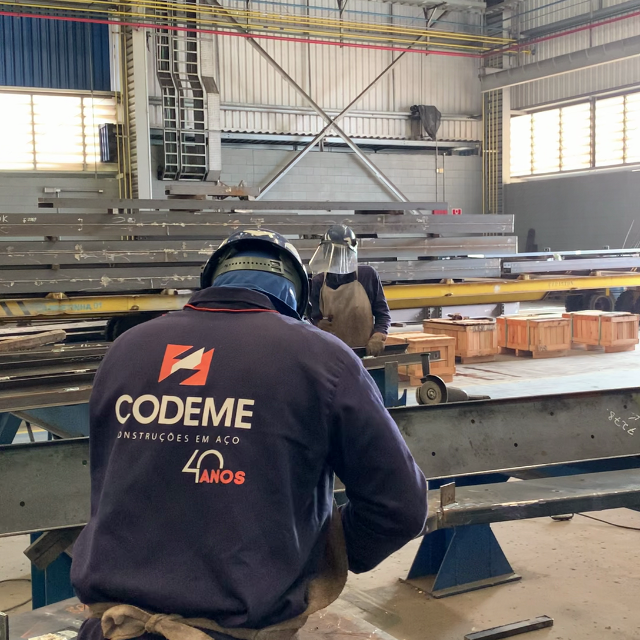face-shield: (307, 241, 359, 274)
helmet: (200, 230, 312, 313), (320, 223, 361, 244)
person: (69, 227, 428, 631), (310, 220, 393, 359)
